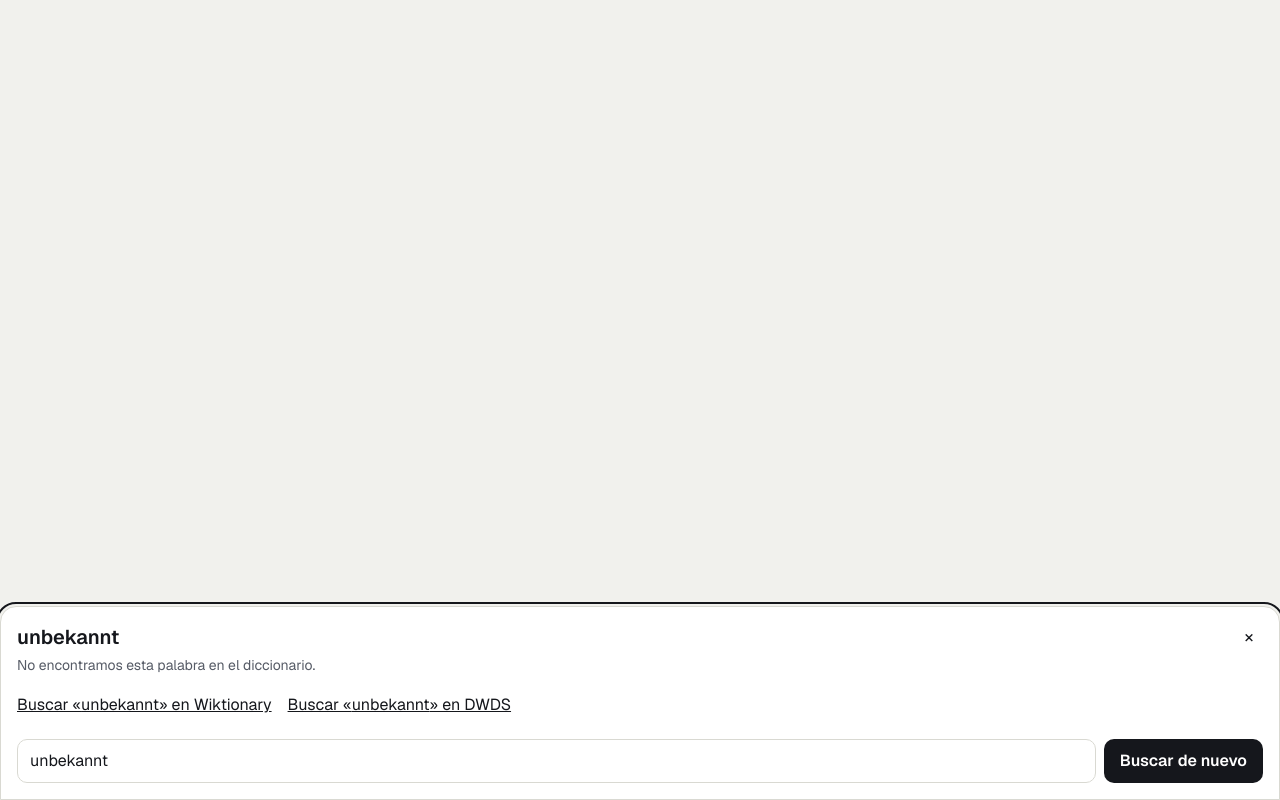
WordPanel: palabra no encontrada (RF-25) › permite corregir la forma, buscar de nuevo y mostrar la entrada hallada
The image size is (1280, 800).
Replace the text in the field named "Corregir la forma de la palabra" with "Katze" at (556, 761), box [17,739,1096,783]
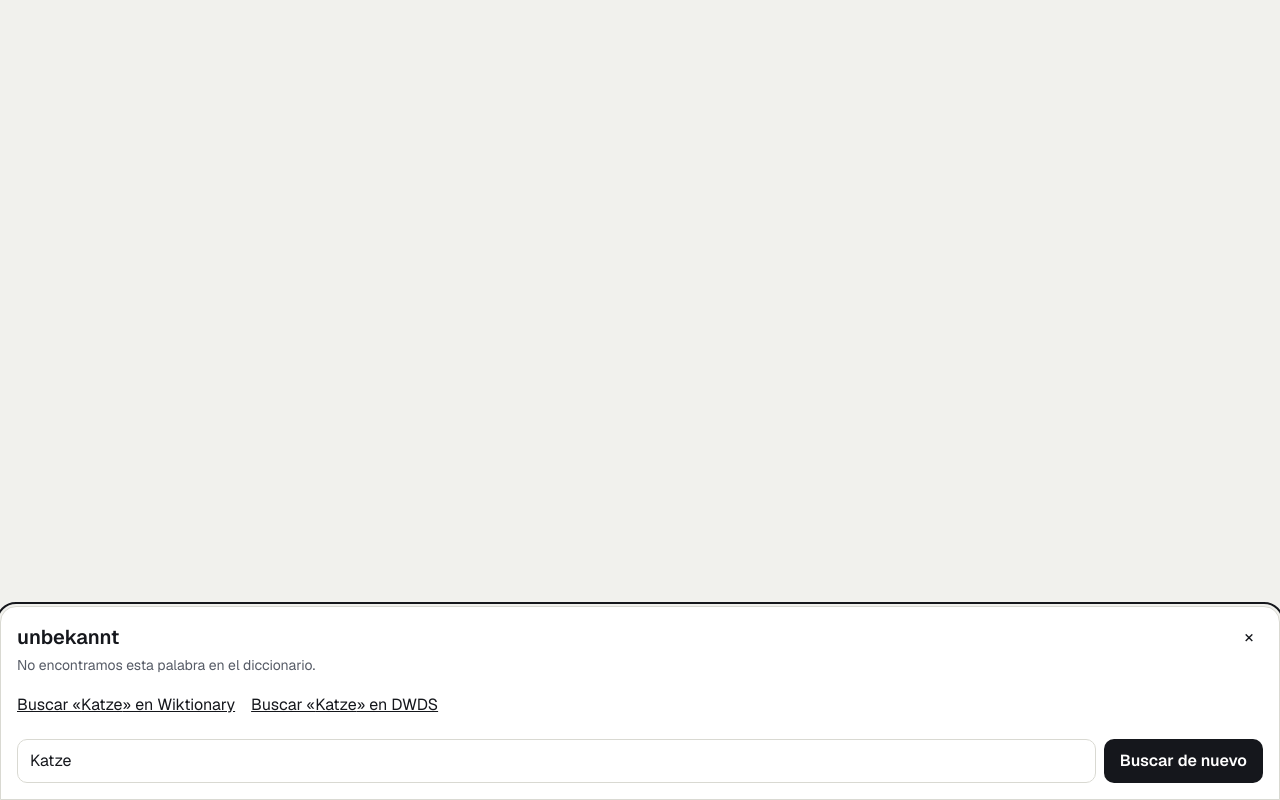
Check: the link "Buscar «Katze» en DWDS" is shown, box [251,694,438,715]
Click the button "Buscar de nuevo".
click(1183, 761)  # box [1104,739,1263,783]
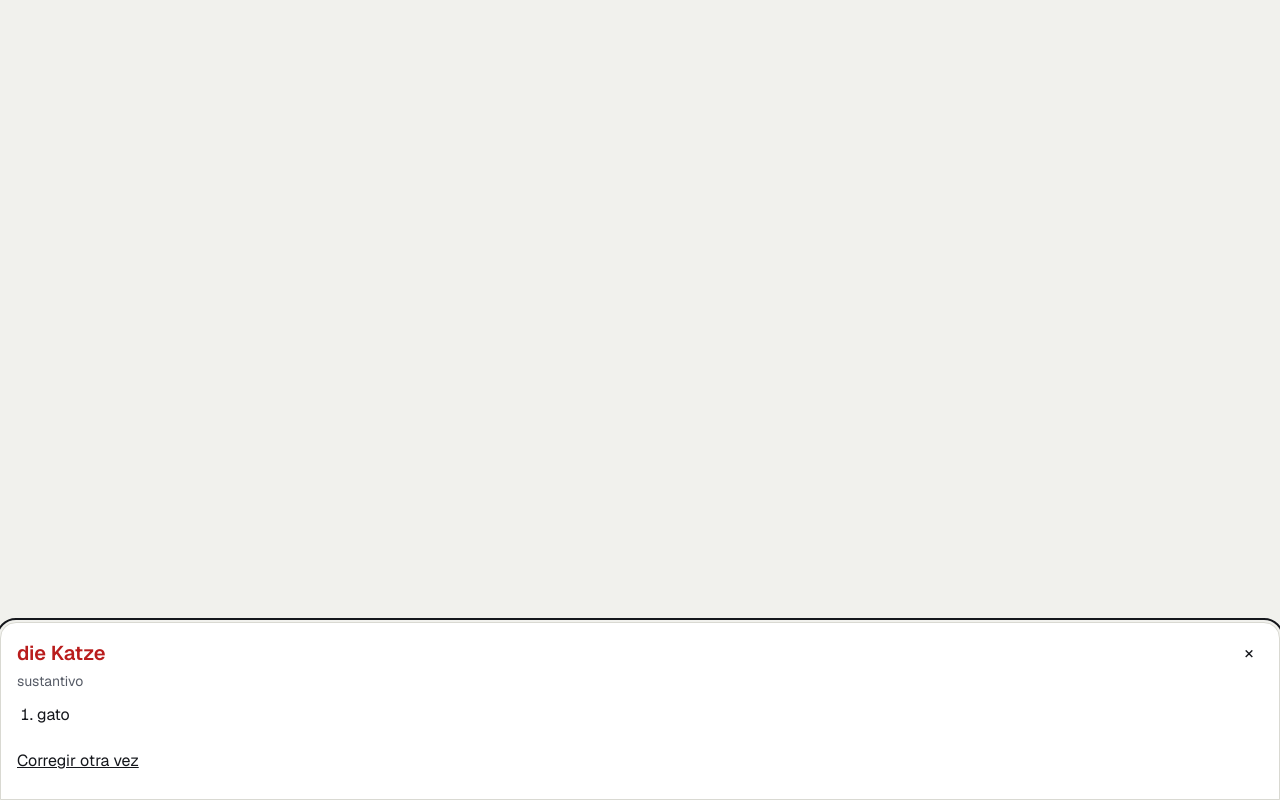
Check: the list item "gato" is shown, box [37,704,70,725]
